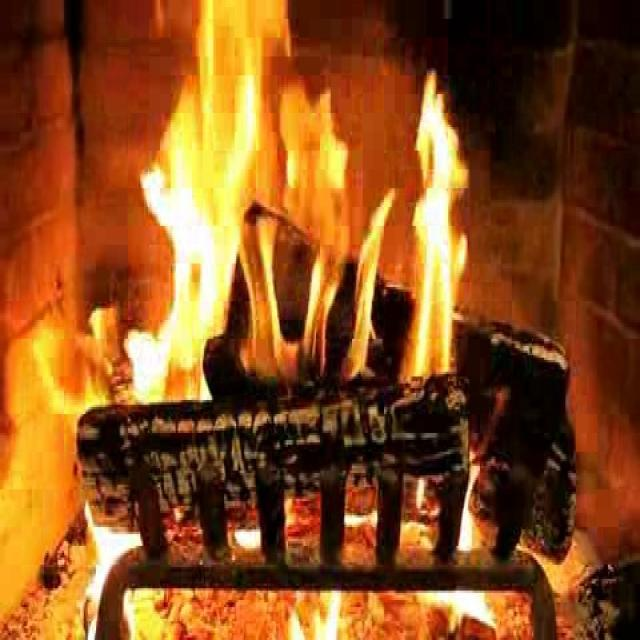Fire: (18, 0, 640, 429)
